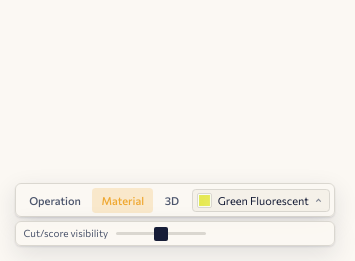
Test: ColorViewControl — material picker › the chip toggles the picker open in material mode
Click the button with aria-label "Previewing Green Fluorescent".
click(261, 200)  # box [192,189,330,212]
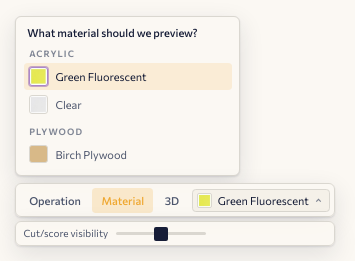
Expected: the list named "Preview material" is shown, [15,16,240,176]
